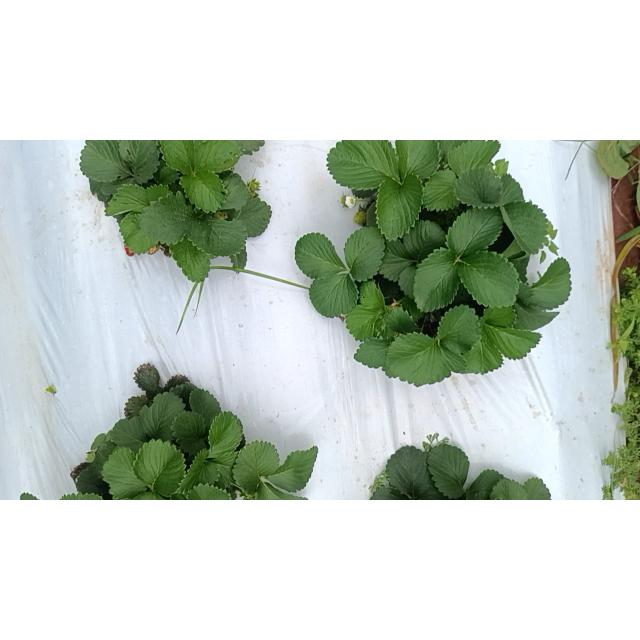no-maduro: (353, 211, 367, 227)
